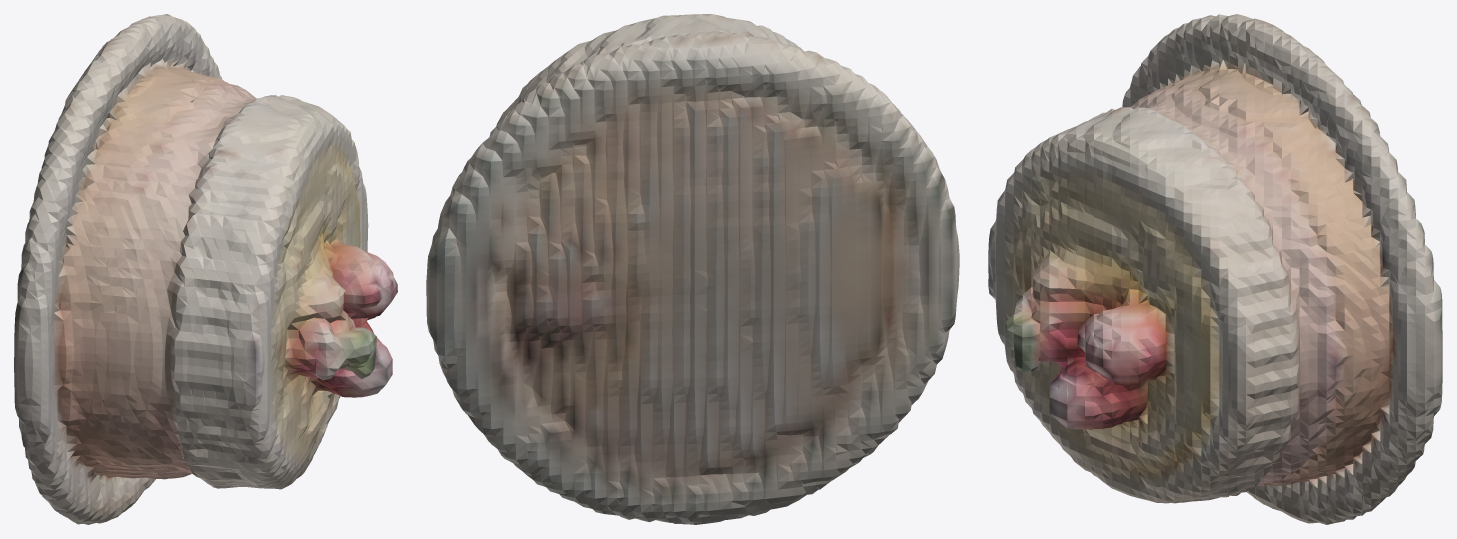
3 views of the same model, side by side, from view 1: azimuth 30°, elevation 25°; view 2: azimuth 150°, elevation 25°; view 3: azimuth 270°, elevation 25° (orthographic). The views are drawn at different scales.
Visible parts, largest first — view 1: world; view 2: world; view 3: world.
Boxes of the visible parts, x1,y1,x2,y2 form: world: [14, 14, 397, 524]; world: [426, 14, 959, 524]; world: [988, 14, 1442, 524].
Size of the model in its own units: 0.7255 by 0.8018 by 0.6959.
